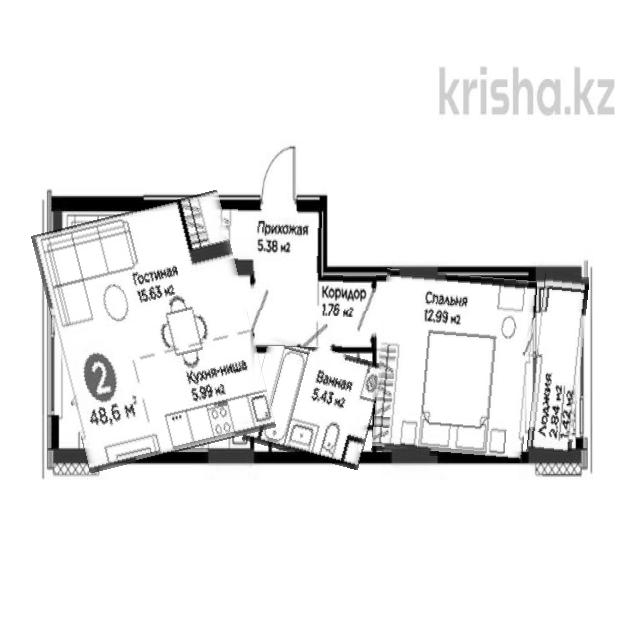balcony: (530, 274, 585, 455)
bathroom: (248, 341, 380, 464)
hallway: (252, 273, 376, 347), (211, 209, 321, 272)
living_room: (375, 271, 534, 460)
studio: (45, 199, 263, 464)
